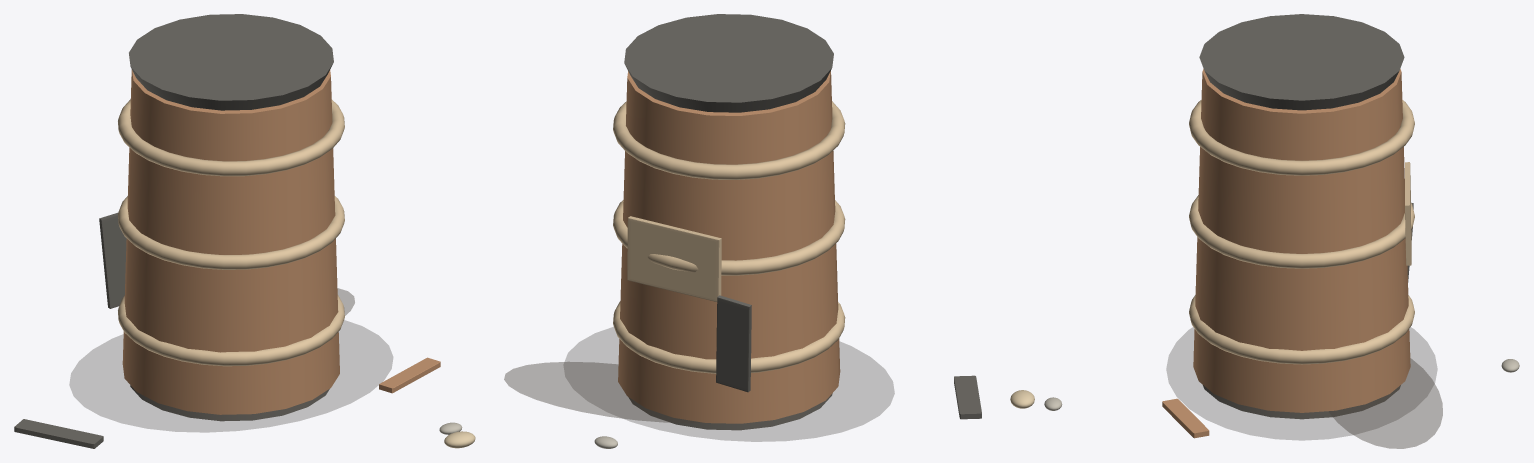
File: rust_barrel_v1.glb
3 views of the same model, side by side, from view 1: azimuth 30°, elevation 25°; view 2: azimuth 150°, elevation 25°; view 3: azimuth 270°, elevation 25° (orthographic). The views are drawn at different scales.
Visible parts, largest first — view 1: single_barrel_dented_body, single_barrel_dark_lid_top, painted_contact_shadow, single_barrel_raised_rib_2, single_barrel_raised_rib_1, single_barrel_raised_rib_0, single_barrel_oil_stain, loose_scrap_flake_1, single_barrel_dark_lid_bottom, loose_scrap_flake_2; view 2: single_barrel_dented_body, single_barrel_dark_lid_top, painted_contact_shadow, single_barrel_scraped_label_plate, irregular_oil_stain_ground_detail, single_barrel_raised_rib_2, single_barrel_raised_rib_0, single_barrel_raised_rib_1, single_barrel_oil_stain, single_barrel_dark_lid_bottom, loose_scrap_flake_1; view 3: single_barrel_dented_body, single_barrel_dark_lid_top, painted_contact_shadow, irregular_oil_stain_ground_detail, single_barrel_raised_rib_2, single_barrel_raised_rib_1, single_barrel_raised_rib_0, single_barrel_dark_lid_bottom, loose_scrap_flake_2, single_barrel_scraped_label_plate.
Part boxes in pixels (left/top/right/bottom): single_barrel_dented_body: left=122, top=69, right=339, bottom=414; single_barrel_dark_lid_top: left=129, top=14, right=333, bottom=110; painted_contact_shadow: left=69, top=320, right=392, bottom=432; single_barrel_raised_rib_2: left=118, top=99, right=344, bottom=176; single_barrel_raised_rib_1: left=118, top=196, right=344, bottom=269; single_barrel_raised_rib_0: left=118, top=295, right=344, bottom=366; single_barrel_oil_stain: left=99, top=212, right=126, bottom=308; loose_scrap_flake_1: left=14, top=419, right=103, bottom=448; single_barrel_dark_lid_bottom: left=130, top=385, right=329, bottom=421; loose_scrap_flake_2: left=379, top=357, right=440, bottom=393; single_barrel_dented_body: left=618, top=71, right=840, bottom=423; single_barrel_dark_lid_top: left=624, top=14, right=833, bottom=112; painted_contact_shadow: left=564, top=327, right=894, bottom=441; single_barrel_scraped_label_plate: left=627, top=216, right=721, bottom=301; irregular_oil_stain_ground_detail: left=504, top=362, right=701, bottom=422; single_barrel_raised_rib_2: left=613, top=101, right=845, bottom=179; single_barrel_raised_rib_0: left=613, top=301, right=845, bottom=373; single_barrel_raised_rib_1: left=613, top=200, right=845, bottom=275; single_barrel_oil_stain: left=716, top=295, right=751, bottom=392; single_barrel_dark_lid_bottom: left=629, top=393, right=832, bottom=430; loose_scrap_flake_1: left=954, top=375, right=981, bottom=419; single_barrel_dented_body: left=1193, top=69, right=1410, bottom=412; single_barrel_dark_lid_top: left=1199, top=14, right=1404, bottom=110; painted_contact_shadow: left=1166, top=327, right=1437, bottom=440; irregular_oil_stain_ground_detail: left=1328, top=358, right=1442, bottom=448; single_barrel_raised_rib_2: left=1189, top=100, right=1414, bottom=175; single_barrel_raised_rib_1: left=1189, top=195, right=1414, bottom=268; single_barrel_raised_rib_0: left=1189, top=295, right=1414, bottom=364; single_barrel_dark_lid_bottom: left=1203, top=385, right=1400, bottom=419; loose_scrap_flake_2: left=1162, top=398, right=1209, bottom=438; single_barrel_scraped_label_plate: left=1405, top=162, right=1411, bottom=265.
Size of the model in its own units: 1.52 by 1.17 by 1.69.
